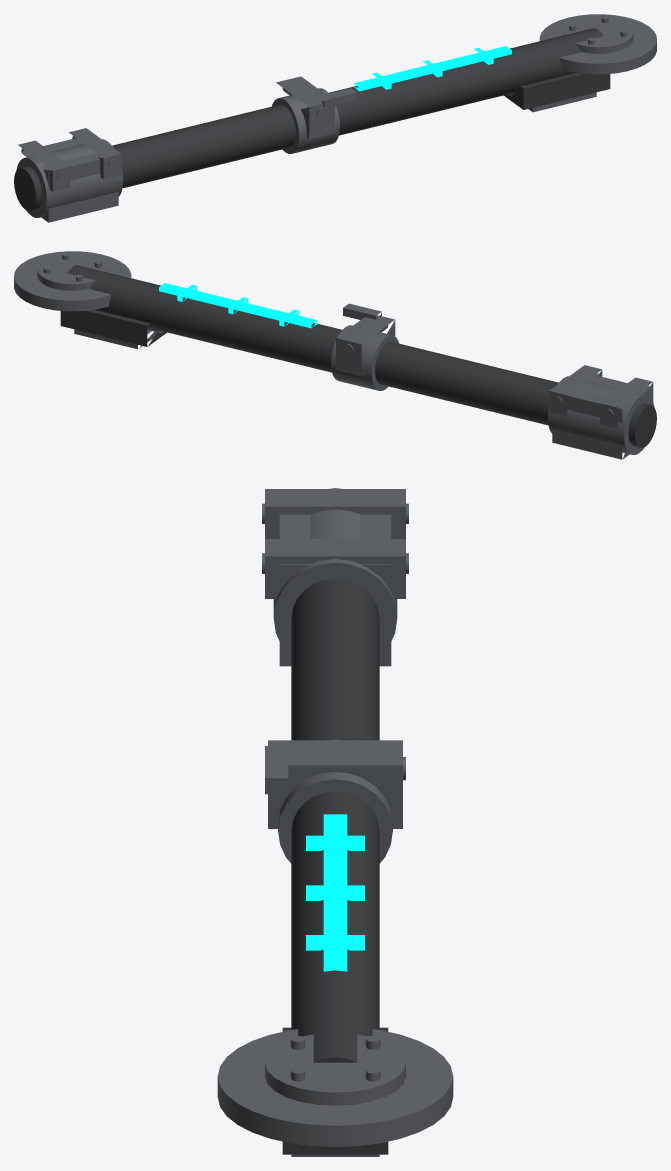
The model's file is ARM_MASTER.glb.
The picture shows the model from 3 angles, top to bottom: view 1: azimuth 30°, elevation 25°; view 2: azimuth 150°, elevation 25°; view 3: azimuth 270°, elevation 25°; orthographic projection. The views are drawn at different scales.
Parts seen in each view (by area): view 1: ARM_CARBON, ARM_COLLARS, ARM_CYAN_STRIPE; view 2: ARM_CARBON, ARM_COLLARS, ARM_CYAN_STRIPE; view 3: ARM_COLLARS, ARM_CARBON, ARM_CYAN_STRIPE.
Part boxes in pixels (box(x1,y1,x2,y2)): ARM_CARBON: box(14, 28, 610, 210); ARM_COLLARS: box(16, 14, 656, 222); ARM_CYAN_STRIPE: box(353, 46, 511, 91); ARM_CARBON: box(60, 265, 656, 447); ARM_COLLARS: box(14, 251, 654, 459); ARM_CYAN_STRIPE: box(159, 283, 317, 328); ARM_COLLARS: box(217, 488, 453, 1156); ARM_CARBON: box(282, 578, 388, 1154); ARM_CYAN_STRIPE: box(306, 814, 364, 971).
Bounding box in the file's own units: 0.49 × 0.052 × 0.08.
